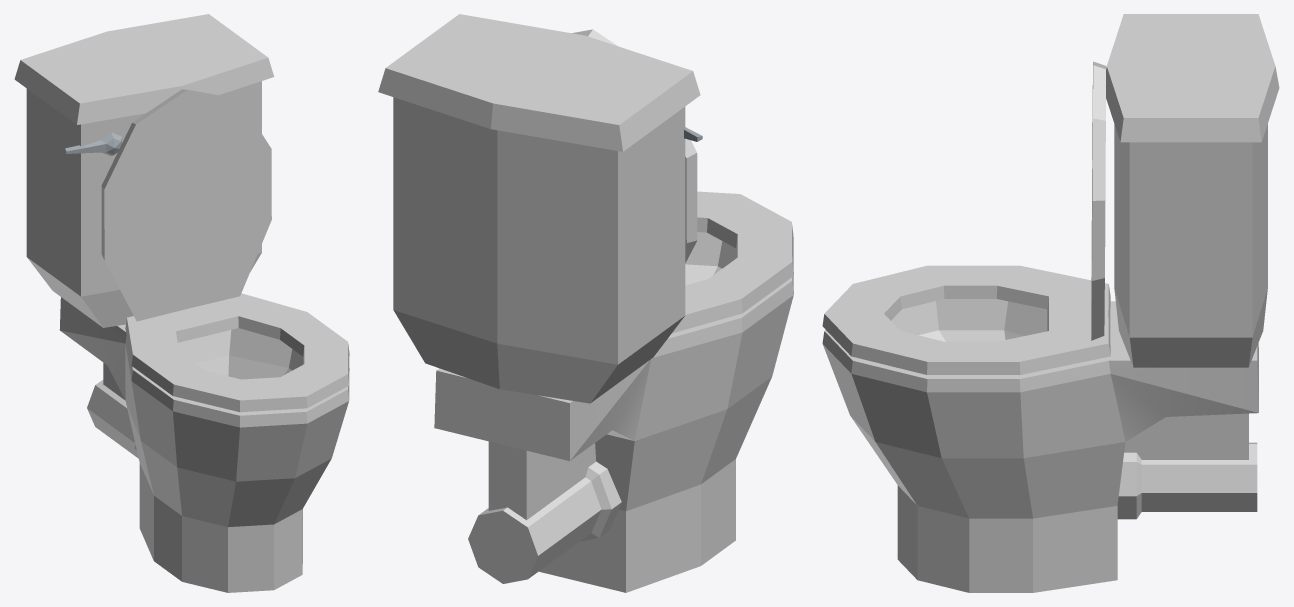
Rendered from SM_Prop_Toilet_01.fbx.
3 renders of one model, left to right at view 1: azimuth 30°, elevation 25°; view 2: azimuth 150°, elevation 25°; view 3: azimuth 270°, elevation 25°, orthographic. The views are drawn at different scales.
Parts seen in each view (by area): view 1: SM_Prop_Toilet_01, SM_Prop_Toilet_01_Lid, SM_Prop_Toilet_01_Seat; view 2: SM_Prop_Toilet_01, SM_Prop_Toilet_01_Seat, SM_Prop_Toilet_01_Lid; view 3: SM_Prop_Toilet_01, SM_Prop_Toilet_01_Seat, SM_Prop_Toilet_01_Lid.
Boxes of the visible parts, x1,y1,x2,y2 form: SM_Prop_Toilet_01: (14, 14, 349, 592); SM_Prop_Toilet_01_Lid: (101, 89, 271, 321); SM_Prop_Toilet_01_Seat: (125, 293, 349, 412); SM_Prop_Toilet_01: (378, 14, 793, 592); SM_Prop_Toilet_01_Seat: (672, 191, 793, 333); SM_Prop_Toilet_01_Lid: (572, 29, 697, 262); SM_Prop_Toilet_01: (822, 14, 1279, 592); SM_Prop_Toilet_01_Seat: (822, 265, 1110, 374); SM_Prop_Toilet_01_Lid: (1091, 61, 1105, 340).
Size of the model in its own units: 50.25 by 103 by 86.41.
